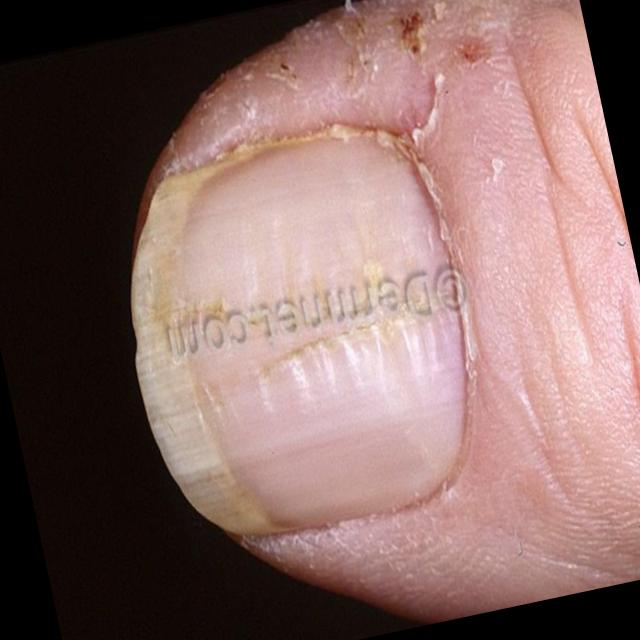Nail: (134, 132, 467, 534)
